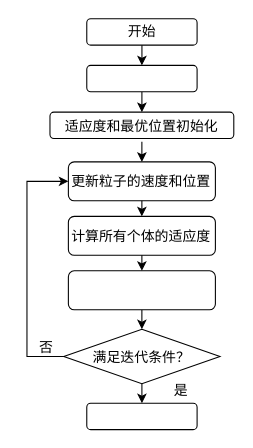
Image size: 253x448. Some labels were removed from this diagram. Each missing label, with the box of its shape:
种群初始化: (86, 64, 197, 92)
结束: (86, 402, 197, 430)
记录种群最优位置和个体最优位置: (67, 270, 215, 310)
